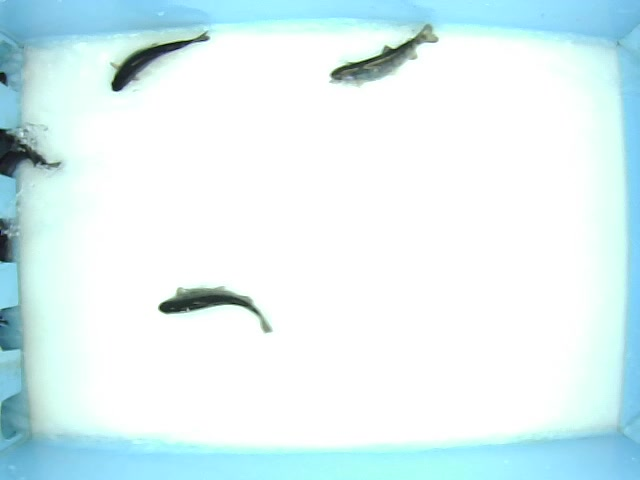fish: (329, 23, 440, 88), (108, 30, 211, 94), (157, 286, 273, 338)
